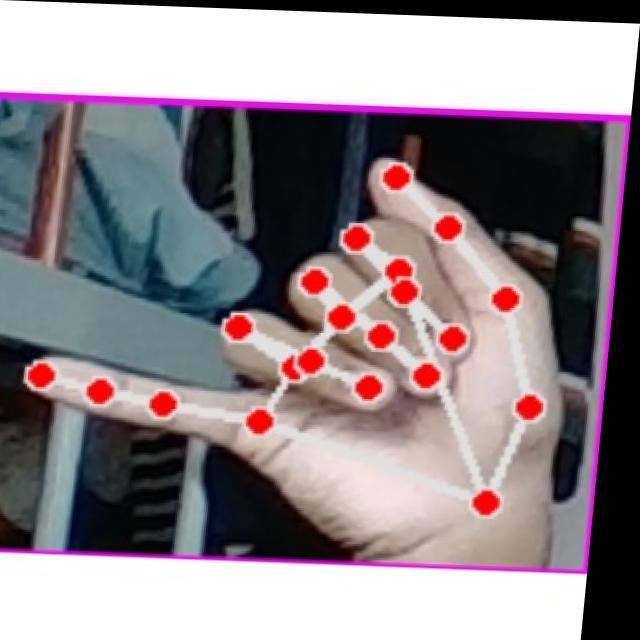J: (4, 131, 608, 549)
